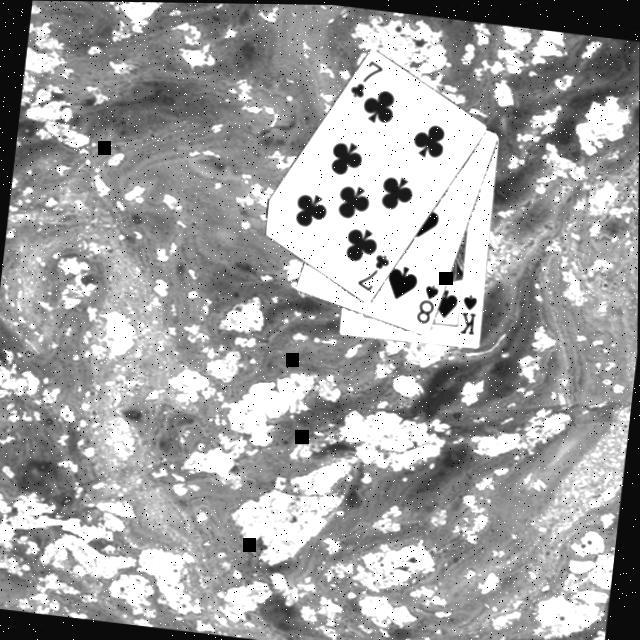7C: (352, 246, 393, 295), (345, 53, 386, 102)
8S: (412, 276, 442, 326)
KS: (456, 288, 480, 336)
